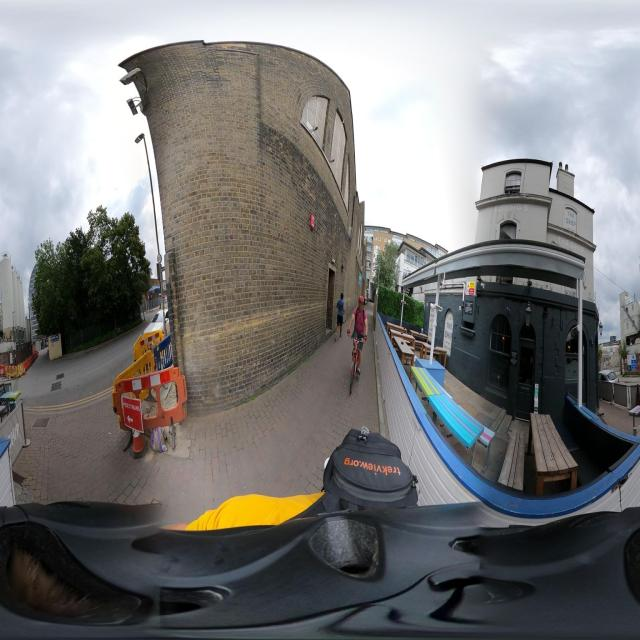car: (599, 369, 617, 383)
